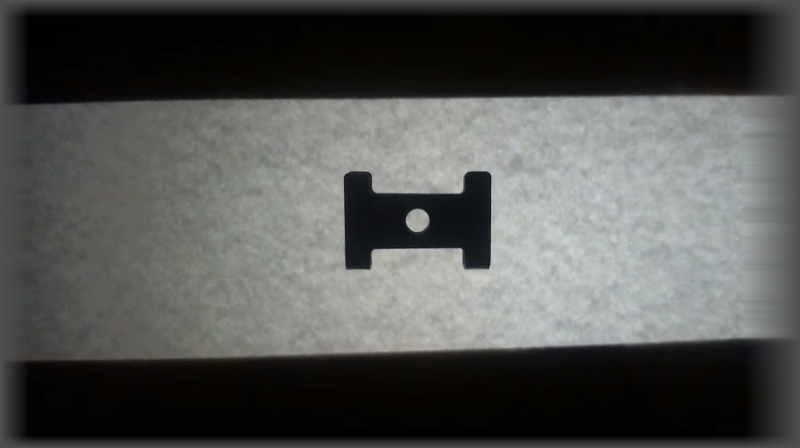O002: (340, 168, 494, 272)
